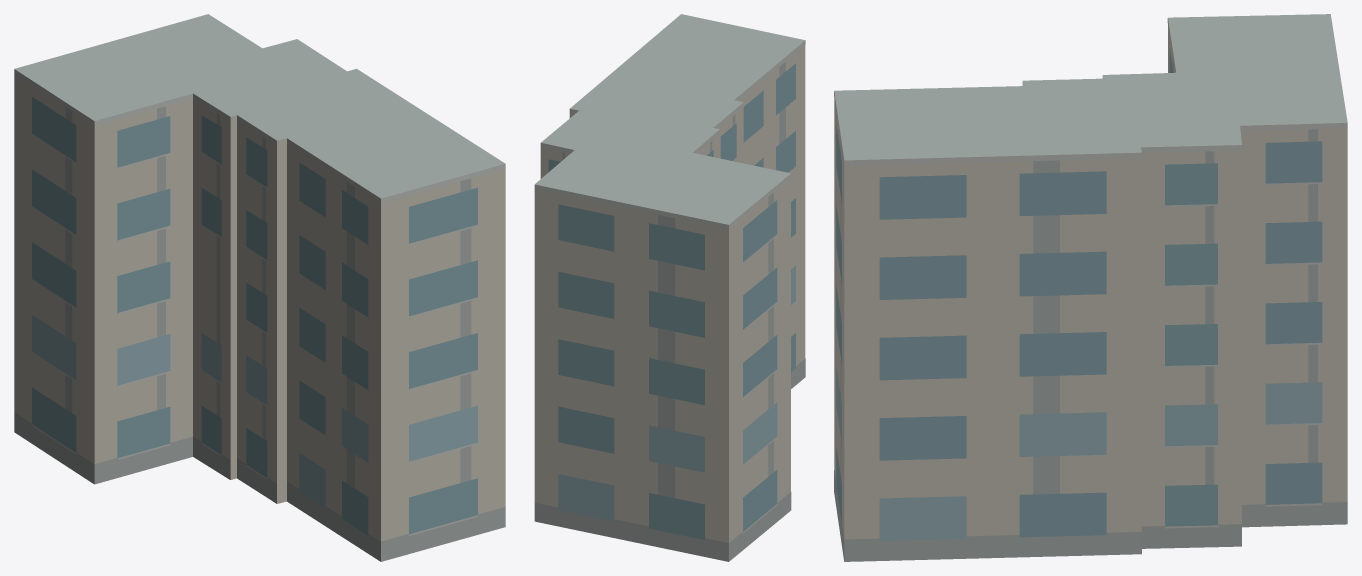
File: survey-upis-32897406.glb
3 views of the same model, side by side, from view 1: azimuth 30°, elevation 25°; view 2: azimuth 150°, elevation 25°; view 3: azimuth 270°, elevation 25° (orthographic). The views are drawn at different scales.
Visible parts, largest first — view 1: survey-upis-32897406.tmp; view 2: survey-upis-32897406.tmp; view 3: survey-upis-32897406.tmp.
Part boxes in pixels (x1=…): survey-upis-32897406.tmp: x1=14, y1=14, x2=505, y2=561; survey-upis-32897406.tmp: x1=534, y1=14, x2=805, y2=561; survey-upis-32897406.tmp: x1=834, y1=14, x2=1347, y2=561.
Size of the model in its own units: 13.68 by 17.49 by 20.28.
